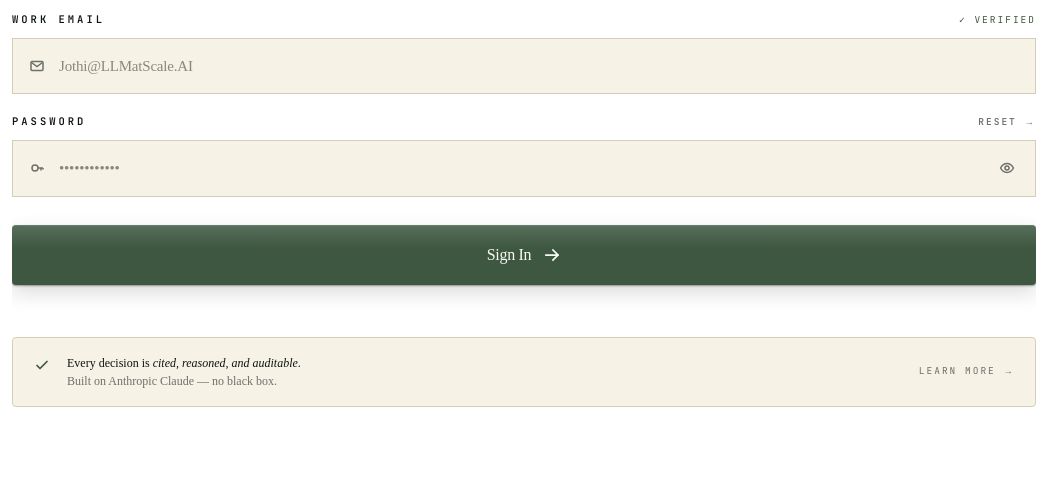
Test: LoginForm › shows generic error on 401
In the field labelled "Work Email": [524, 66] box [13,39,1035,93], type "joe"
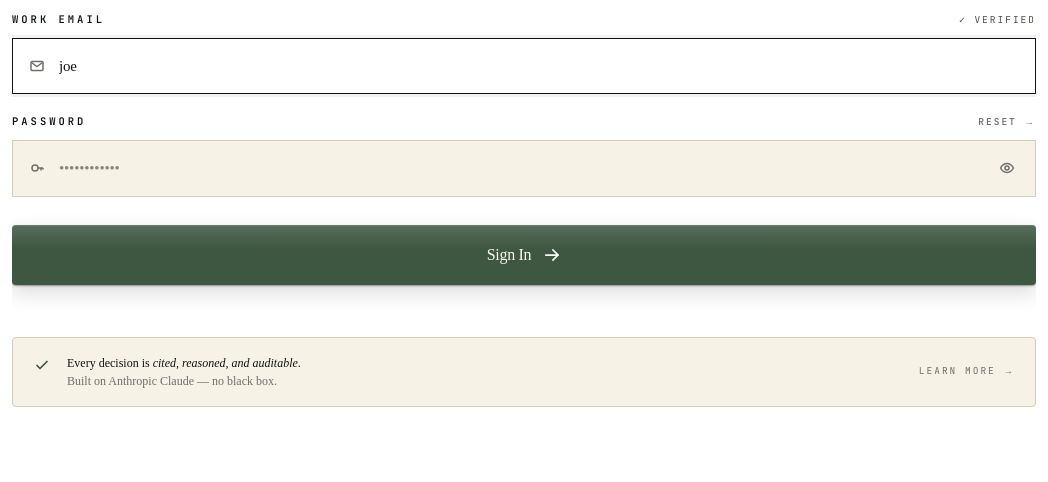
In the password field labelled "Password": [524, 168] box [13,141,1035,196], type "wrong"
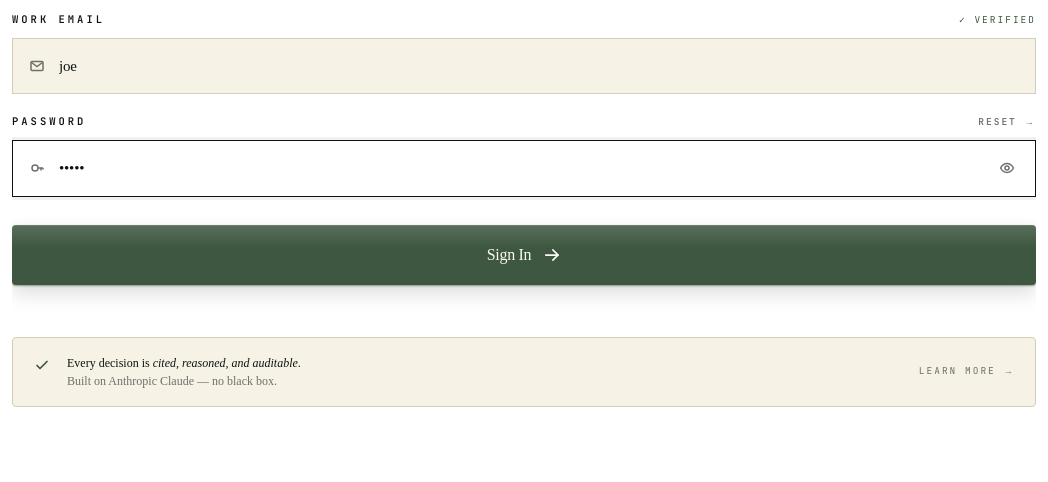
Click the button "Sign In": [524, 254] box [12,224,1036,284]
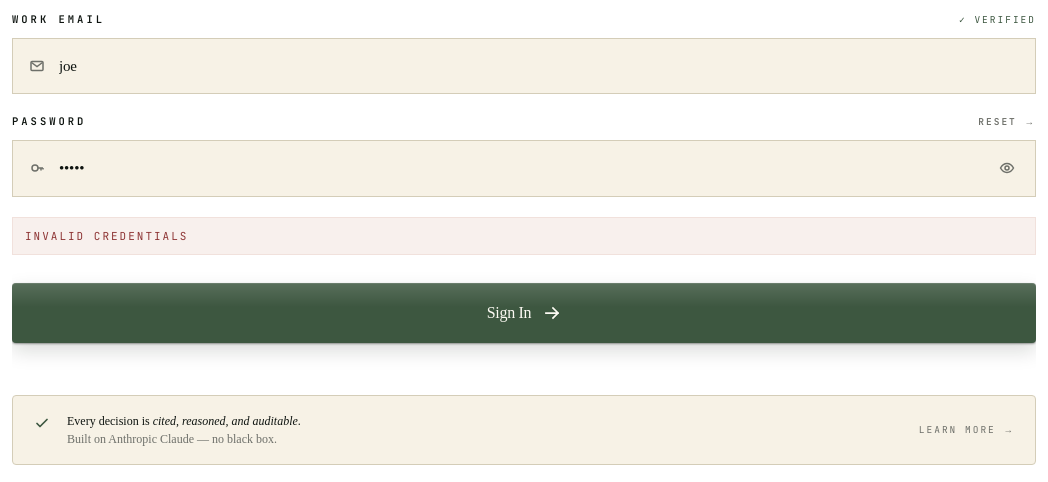
Check: the text "Invalid credentials" is shown, box [12,216,1036,255]
